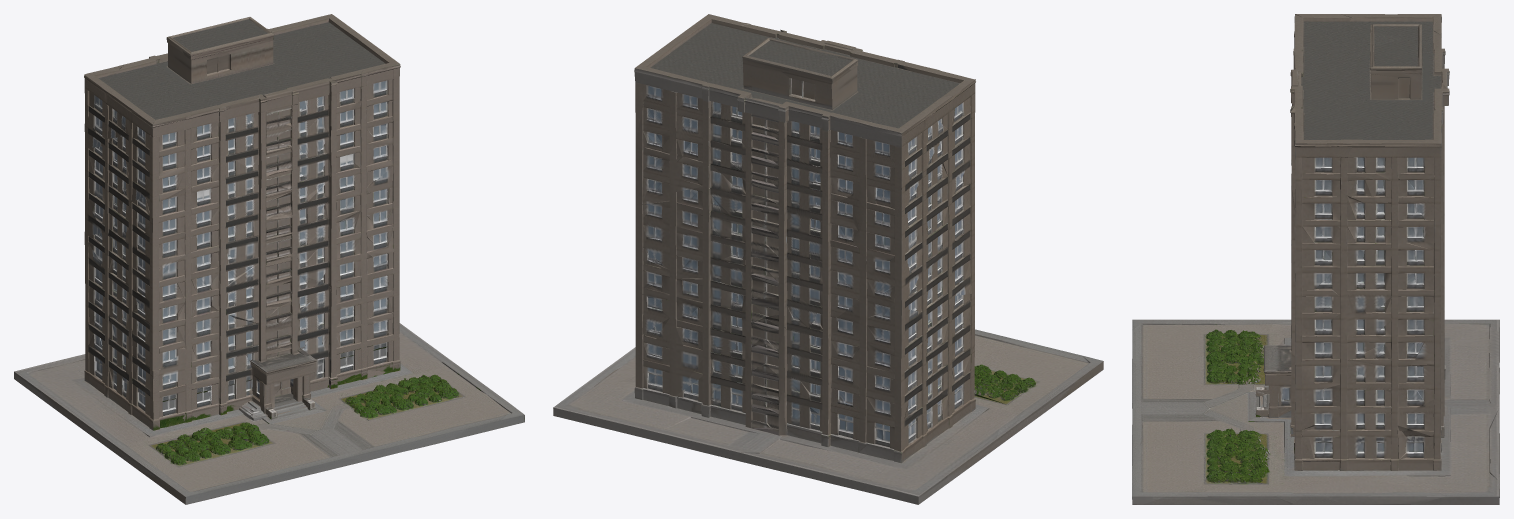
File: building_small_c.glb
3 views of the same model, side by side, from view 1: azimuth 30°, elevation 25°; view 2: azimuth 150°, elevation 25°; view 3: azimuth 270°, elevation 25° (orthographic). The views are drawn at different scales.
Visible parts, largest first — view 1: output_unwrapped; view 2: output_unwrapped; view 3: output_unwrapped.
Boxes of the visible parts, <box> form: output_unwrapped: <box>14,14,524,504</box>; output_unwrapped: <box>553,14,1103,504</box>; output_unwrapped: <box>1132,14,1499,504</box>.
Bounding box in the file's own units: 2 × 1.92 × 1.76.
1 material, 1 textured.
